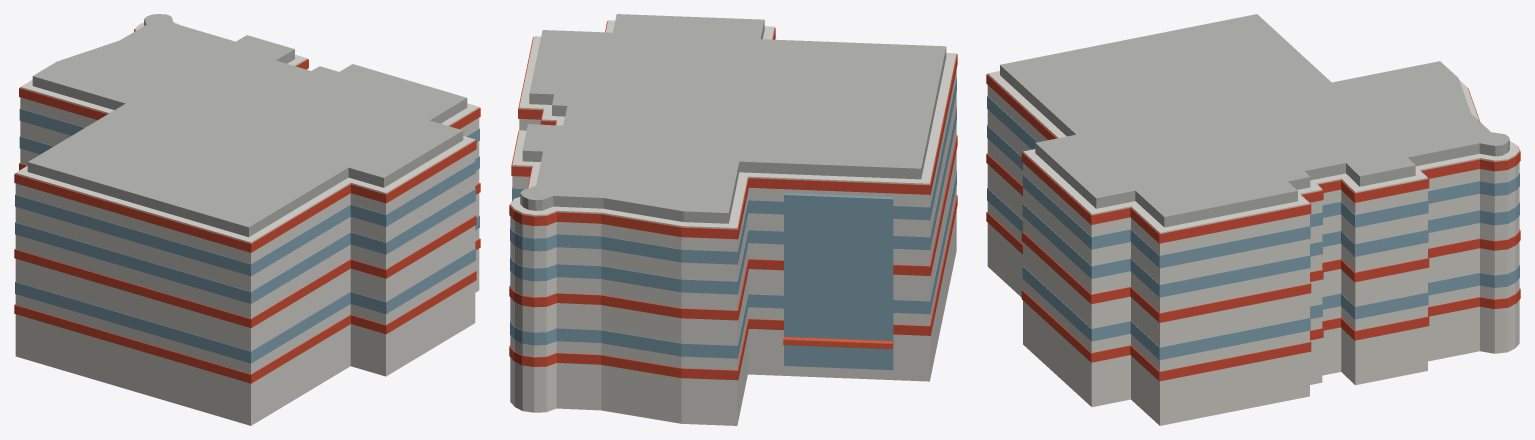
Rendered from taroko-mall.glb.
The picture shows the model from 3 angles, left to right: view 1: azimuth 30°, elevation 25°; view 2: azimuth 150°, elevation 25°; view 3: azimuth 270°, elevation 25°; orthographic projection. The views are drawn at different scales.
Visible parts, largest first — view 1: taroko-mall; view 2: taroko-mall; view 3: taroko-mall.
Boxes of the visible parts, box(x1,y1,x2,y2) form: taroko-mall: box(14, 14, 480, 425); taroko-mall: box(509, 14, 957, 425); taroko-mall: box(986, 14, 1520, 425).
Bounding box in the file's own units: 110 × 48.8 × 116.
